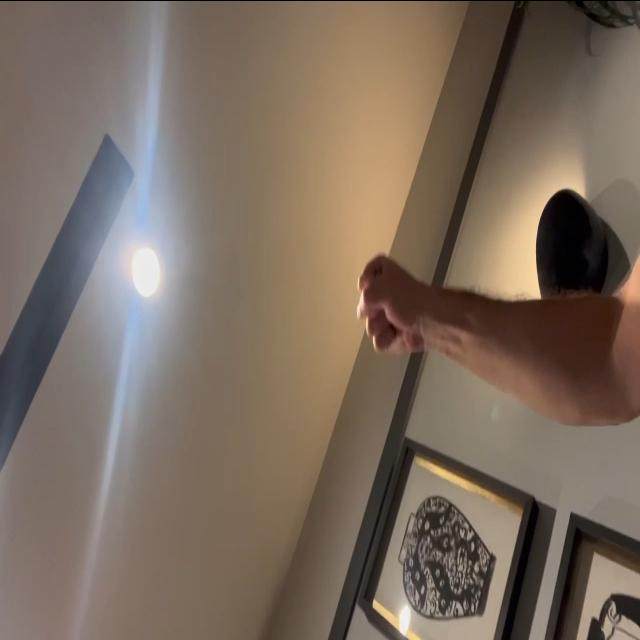Rock: (355, 250, 424, 358)
